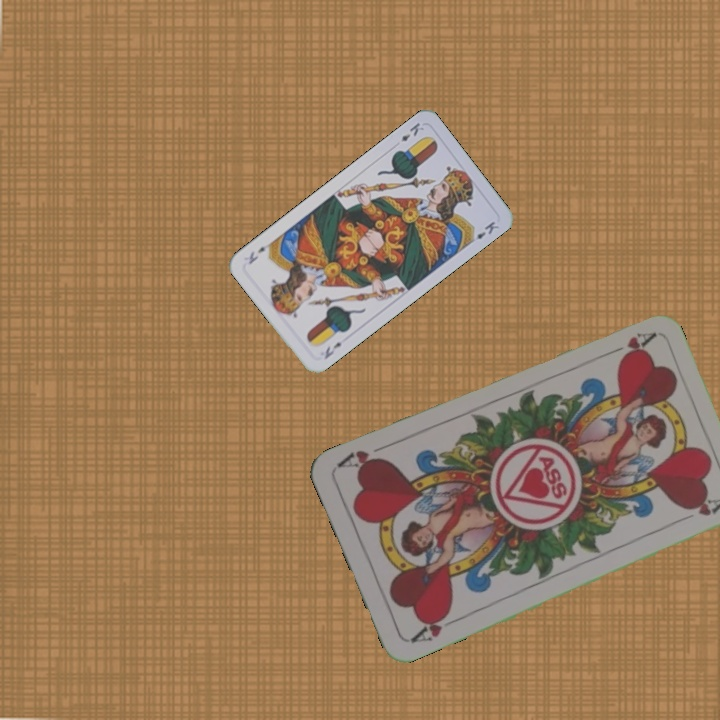EK: (397, 119, 427, 144), (320, 338, 344, 362)
HA: (406, 608, 462, 646), (600, 328, 657, 363)
